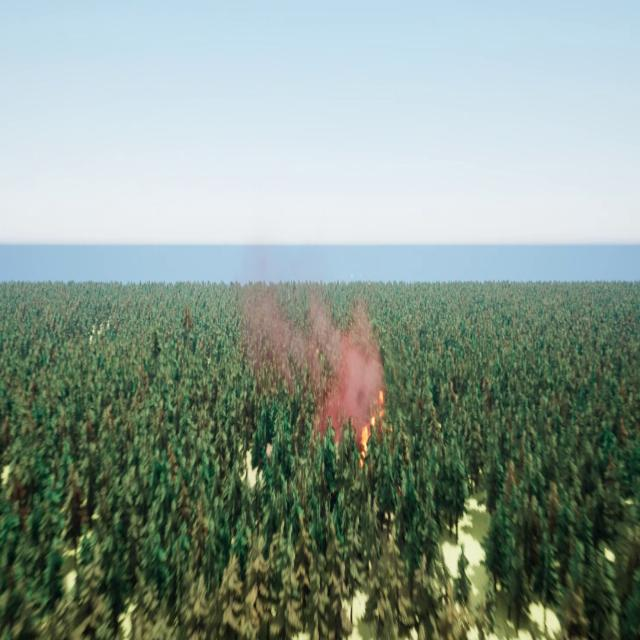fire: (360, 390, 384, 465)
smoke: (242, 276, 384, 444)
